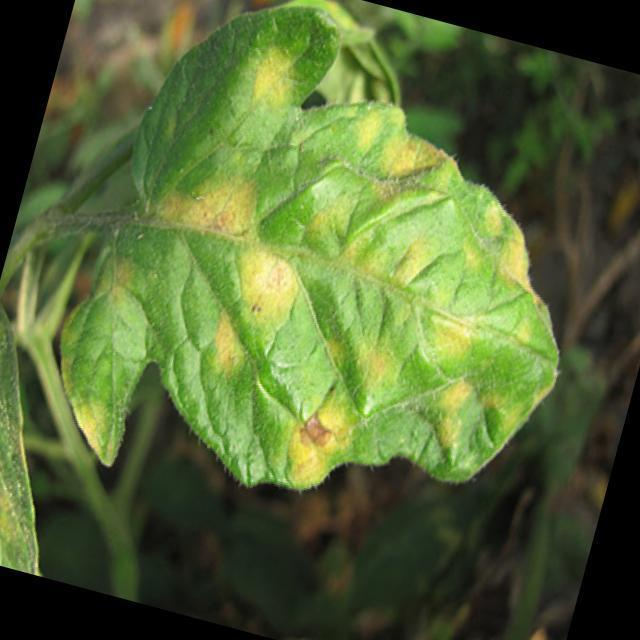Mosaic Virus: (25, 0, 632, 592)
